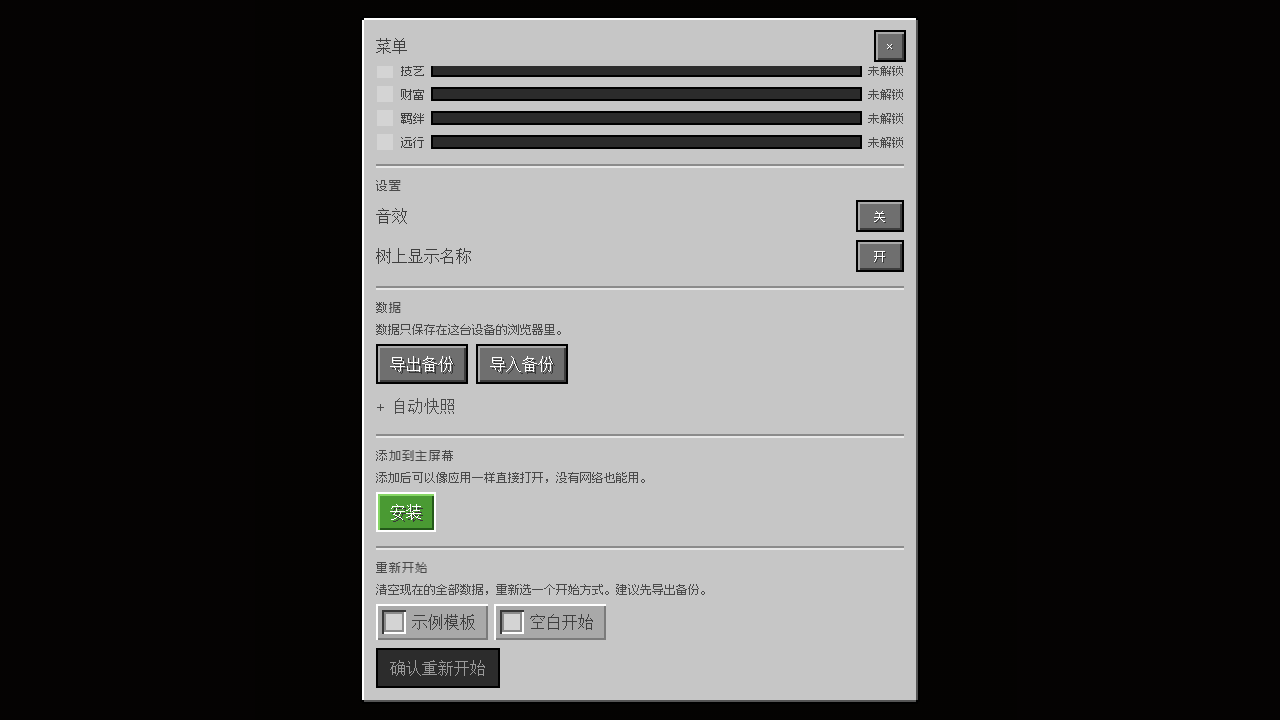
Test: 添加到主屏幕 › on a computer, keeps the section after a dismissed install to say so
The width and height of the screenshot is (1280, 720).
(page scrolled)
Click the button "安装": (406, 512) [376,492,436,532]
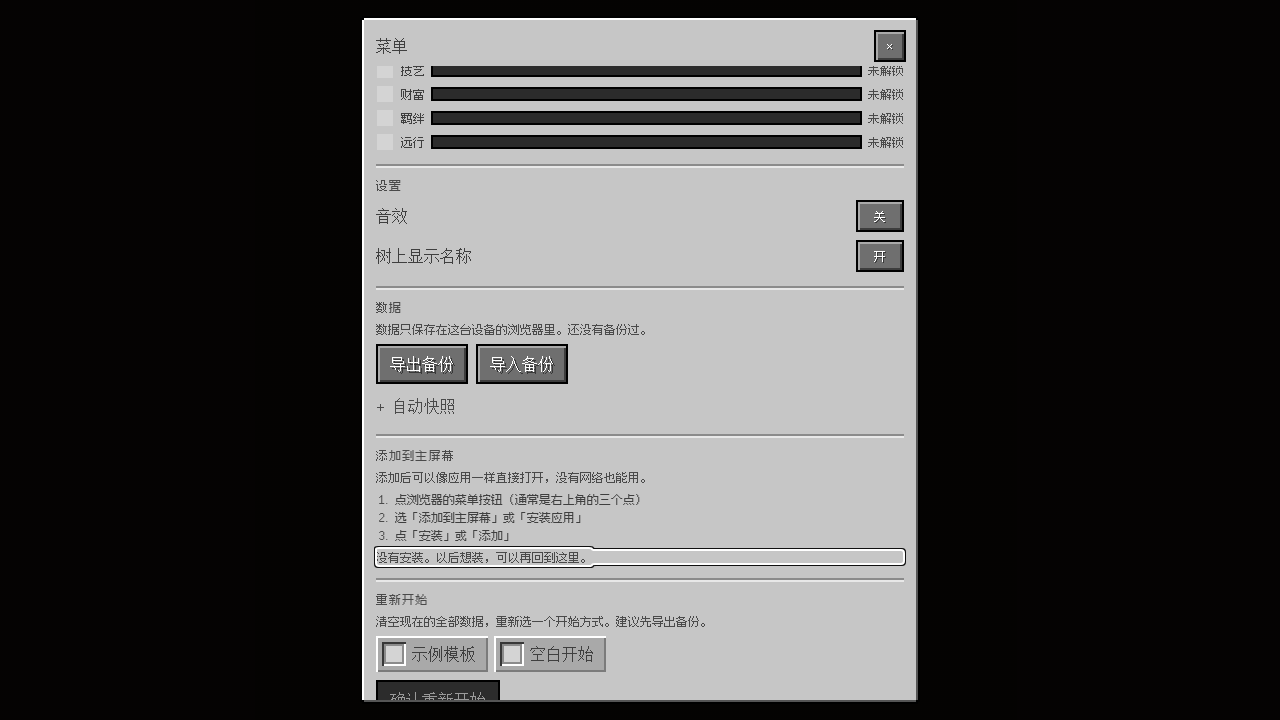
Now the message reads "没有安装。以后想装，可以再回到这里。", box [376,548,592,566]
